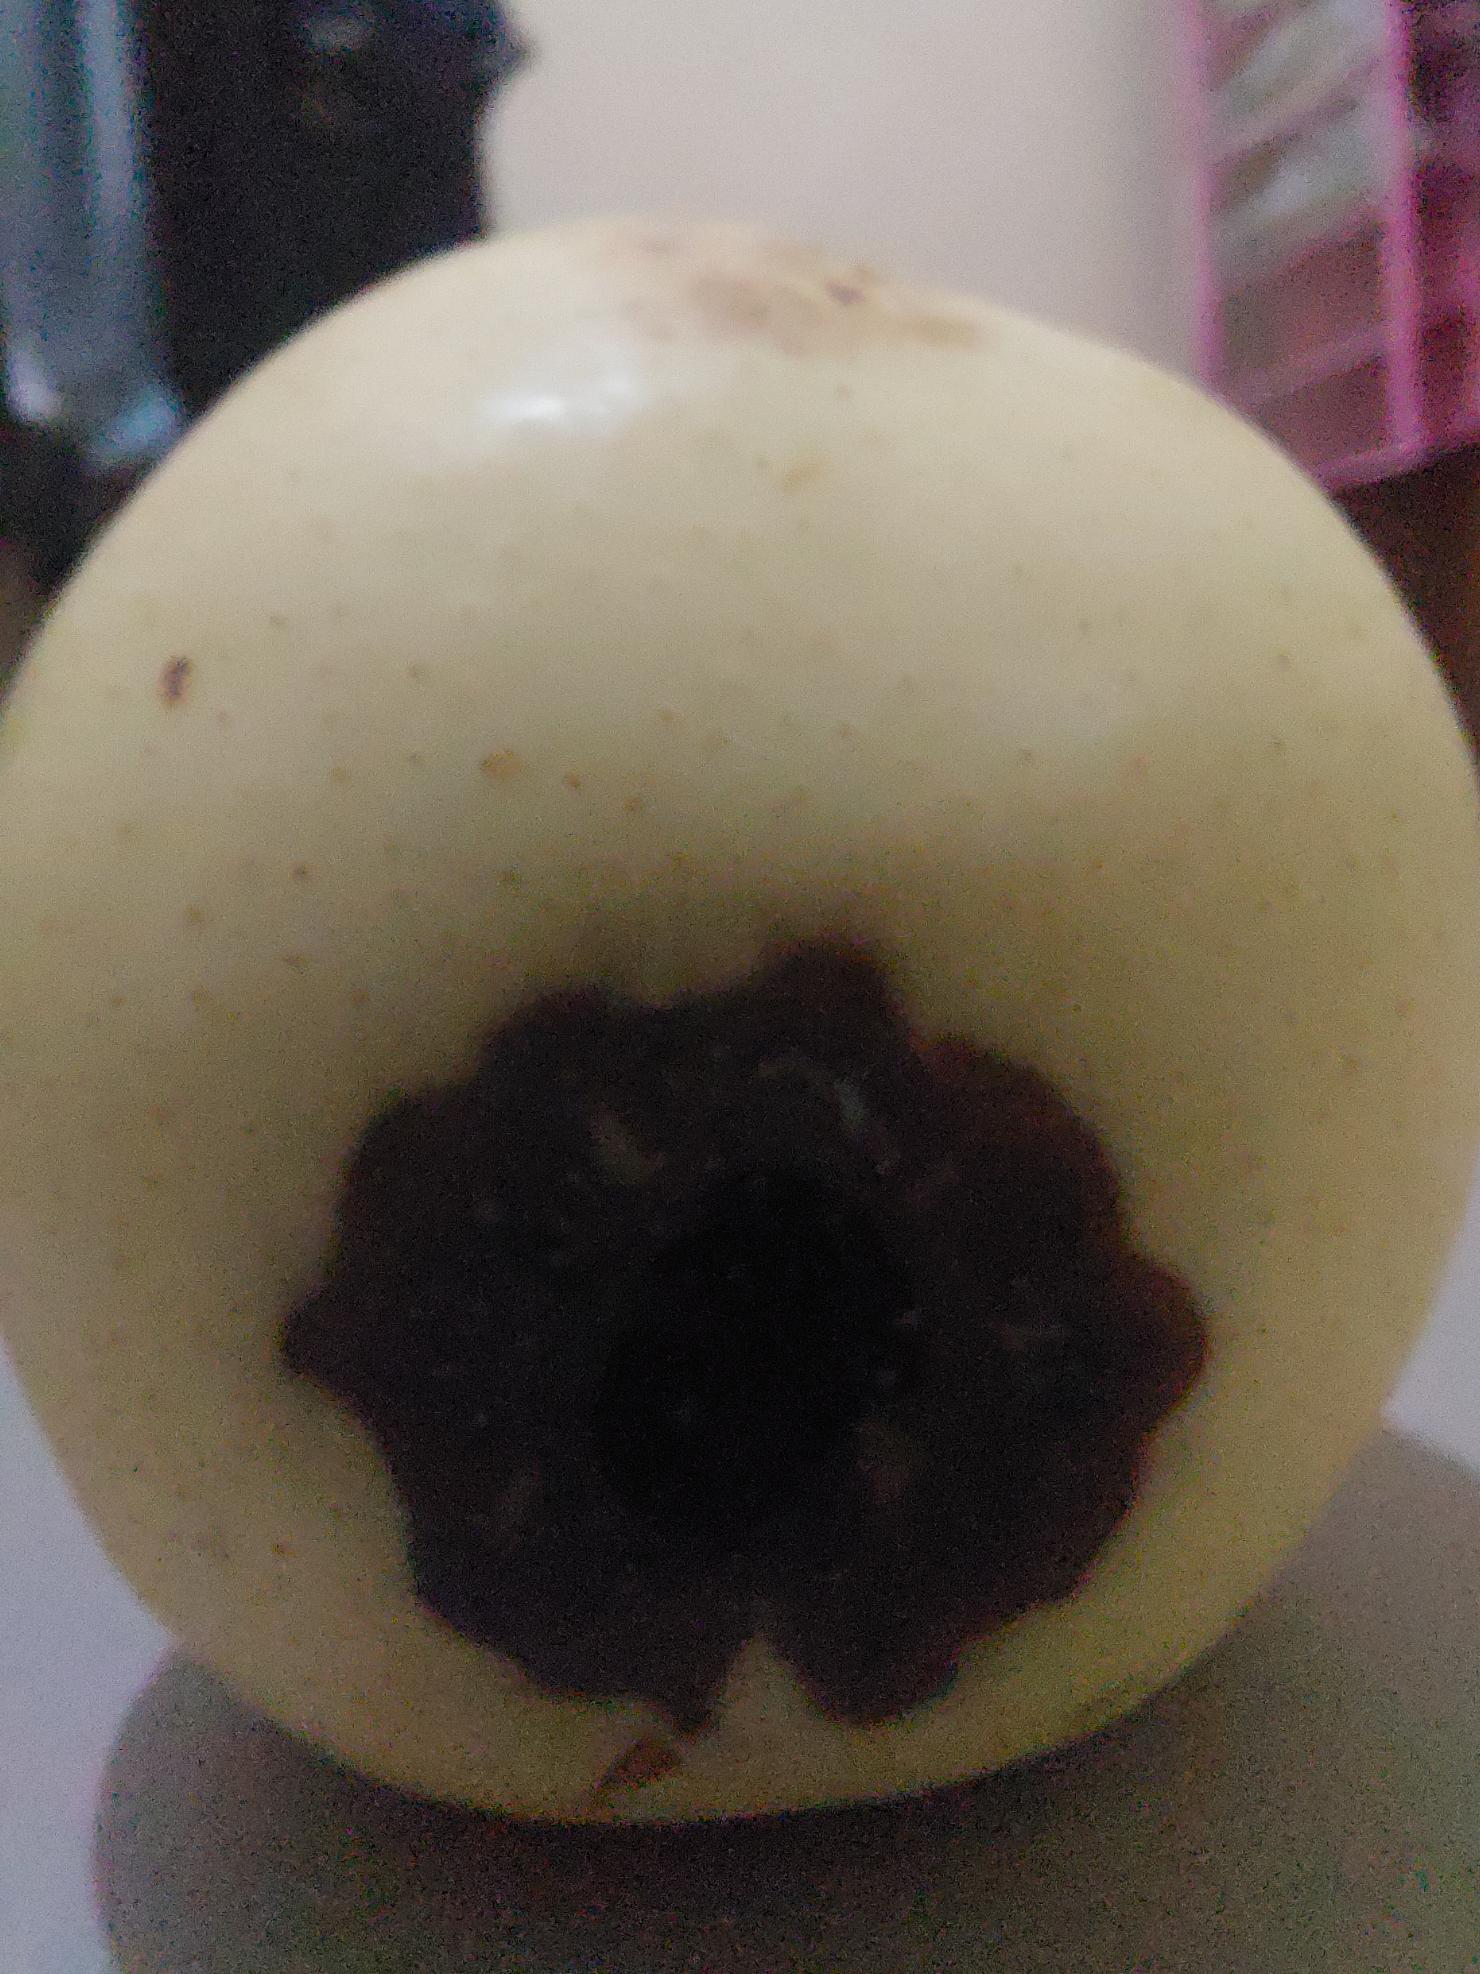Bad Pear: (0, 233, 1480, 1857)
